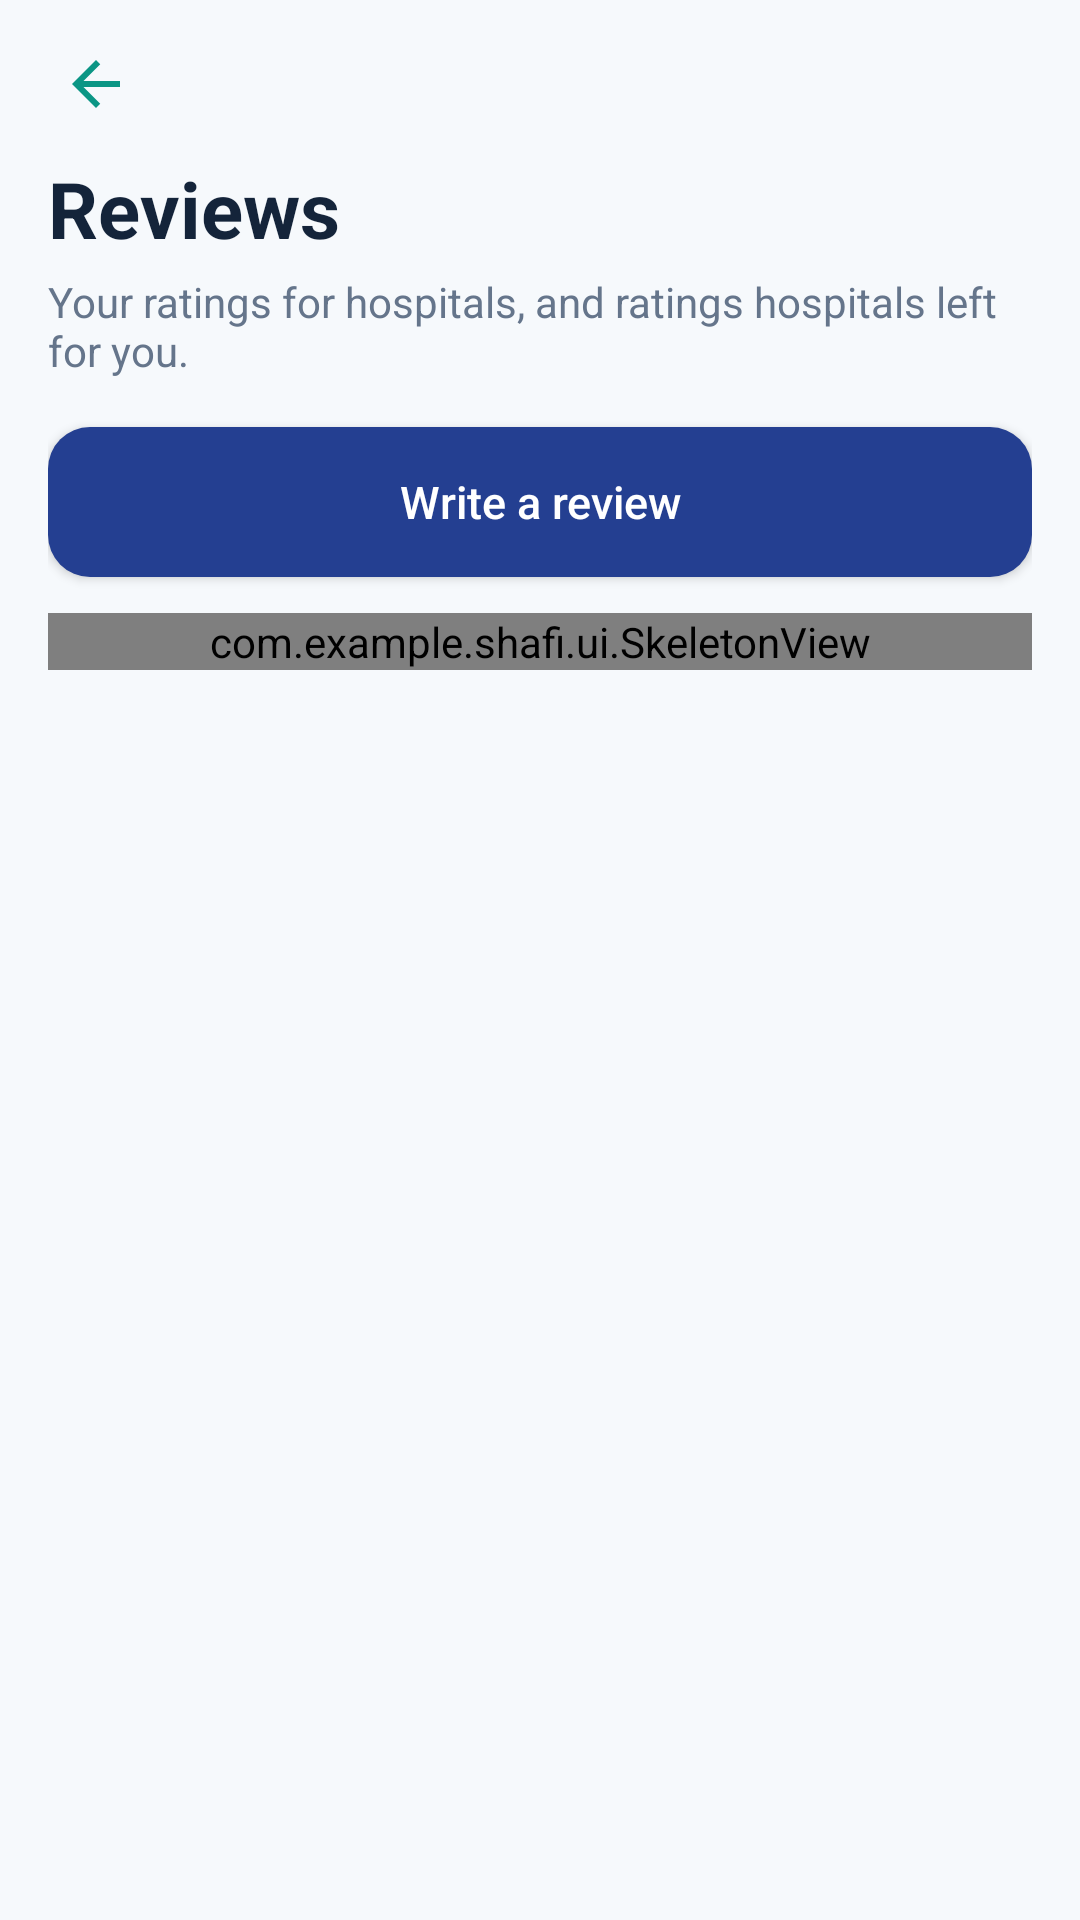

Icons on this 1080 x 1920 Android screen, each with its box as (x1, y1, x2, y2):
Back: (72, 60, 120, 108)
